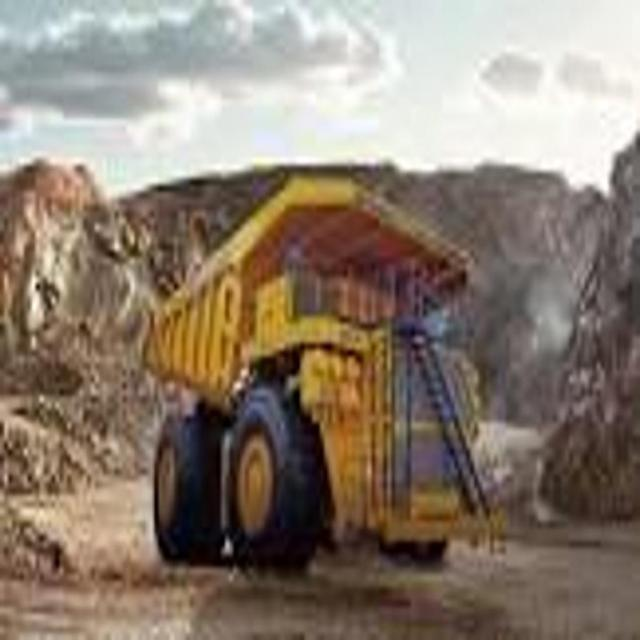dump_truck: (140, 161, 512, 593)
